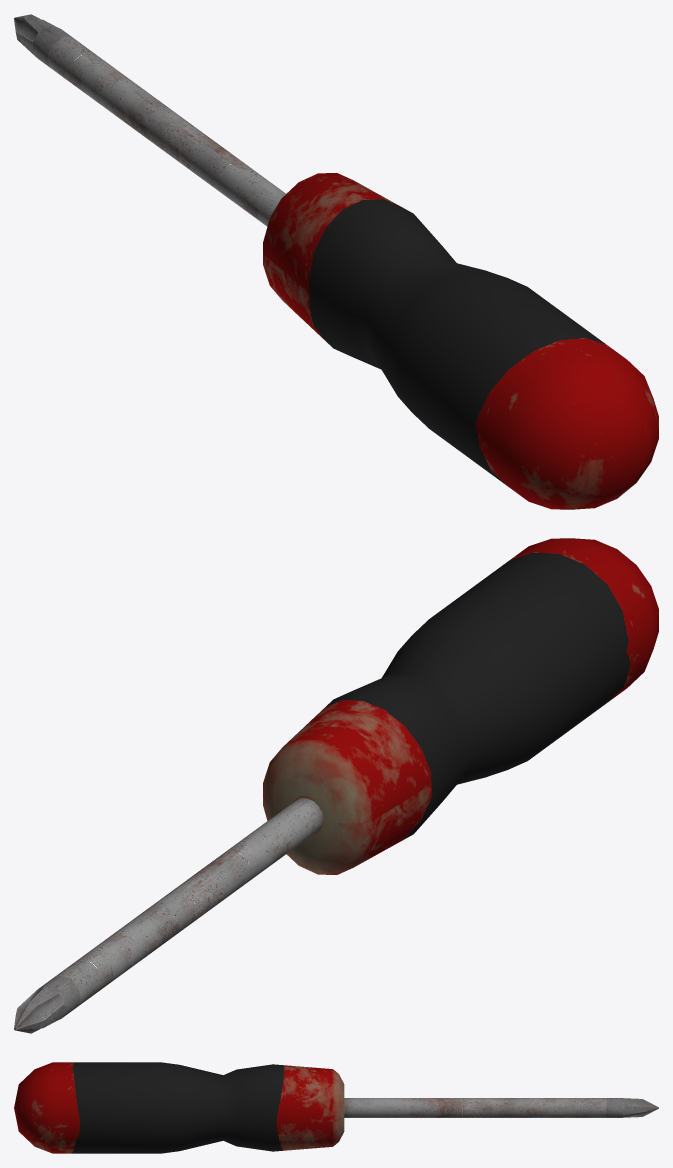
The model's file is Screwdriver01_1.FBX.
The picture shows the model from 3 angles, top to bottom: view 1: azimuth 30°, elevation 25°; view 2: azimuth 150°, elevation 25°; view 3: azimuth 270°, elevation 25°; orthographic projection. The views are drawn at different scales.
Parts seen in each view (by area): view 1: Screwdriver01_1_LOD0; view 2: Screwdriver01_1_LOD0; view 3: Screwdriver01_1_LOD0.
Part boxes in pixels (x1,y1,x2,y2): Screwdriver01_1_LOD0: [14, 14, 658, 509]; Screwdriver01_1_LOD0: [14, 538, 658, 1033]; Screwdriver01_1_LOD0: [14, 1062, 658, 1153].
Size of what is drawn, in the model's own units: 3.92 by 3.8 by 26.87.
